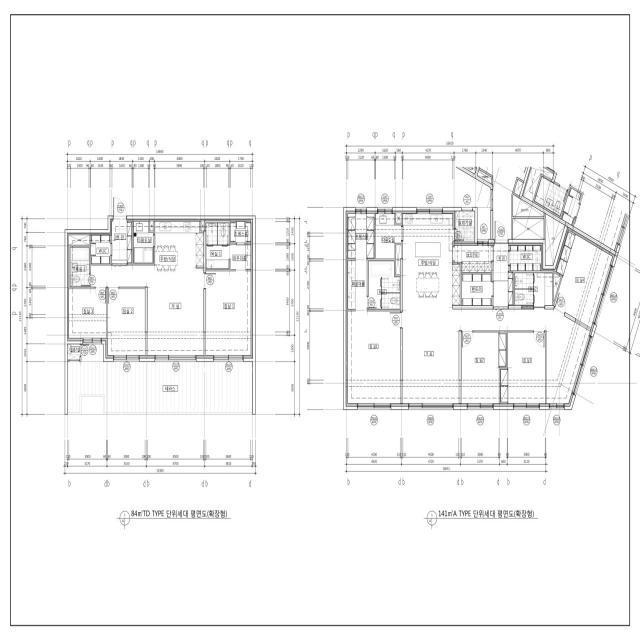space_bedroom: (554, 227, 615, 329), (346, 311, 400, 406), (206, 271, 253, 358), (461, 332, 506, 406), (500, 332, 545, 406), (106, 289, 145, 358), (68, 289, 106, 341)
space_dressroom: (346, 211, 374, 259), (346, 261, 367, 309), (231, 245, 253, 269), (231, 220, 253, 243)
space_front: (493, 243, 513, 307), (510, 243, 543, 271), (111, 220, 132, 263), (91, 233, 111, 264)
space_kitchen: (403, 211, 461, 309), (155, 220, 203, 269)
space_living_room: (403, 309, 592, 406), (91, 266, 204, 358)
space_multipurpose_space: (376, 211, 401, 259), (134, 220, 153, 263)
space_other: (480, 167, 528, 239), (454, 243, 492, 272), (545, 214, 565, 265), (462, 274, 492, 305), (513, 195, 544, 217), (513, 219, 544, 239), (68, 233, 89, 245), (477, 170, 492, 184), (554, 273, 561, 301), (396, 245, 401, 275), (514, 180, 523, 196), (396, 211, 401, 223), (201, 220, 205, 231), (150, 220, 154, 231)
space_outdoor_room: (456, 211, 474, 241), (68, 344, 80, 360)
space_toilet: (368, 261, 400, 309), (70, 248, 89, 286), (534, 273, 552, 305), (206, 246, 229, 269), (515, 289, 533, 305), (515, 273, 533, 289), (218, 223, 229, 245), (206, 223, 217, 245)
